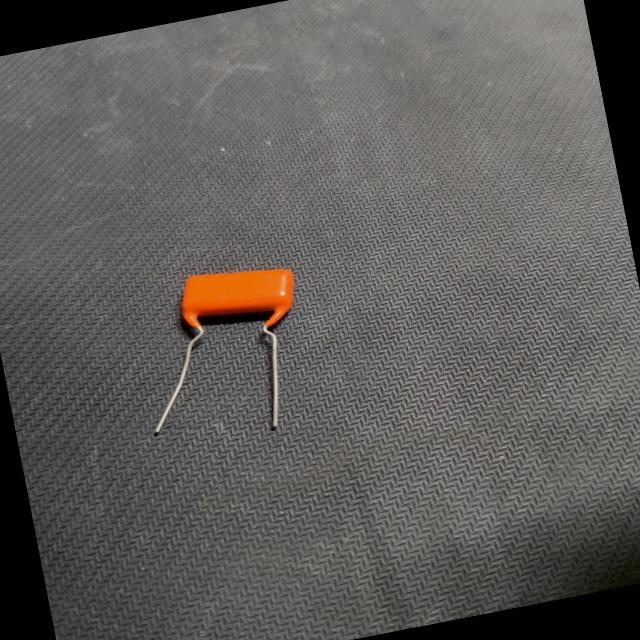capacitor: (108, 245, 330, 458)
